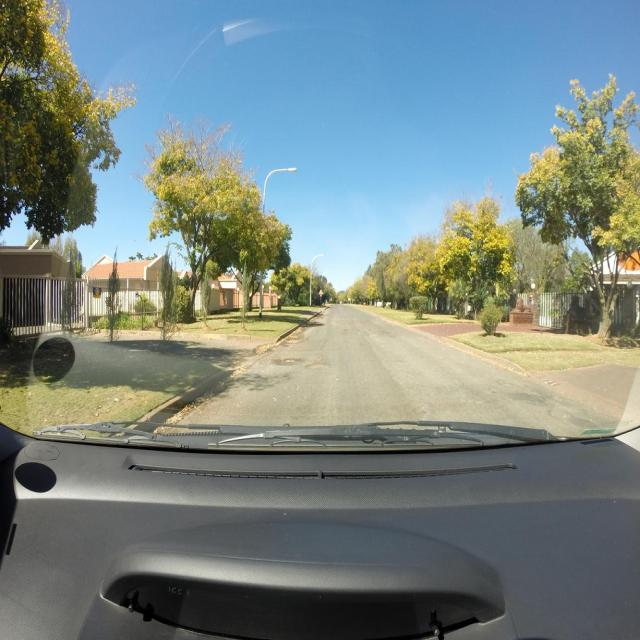Pothole: (278, 358, 300, 364), (307, 363, 326, 369), (286, 339, 300, 344), (367, 334, 380, 337), (384, 334, 394, 336), (344, 329, 354, 331), (348, 323, 358, 325)
